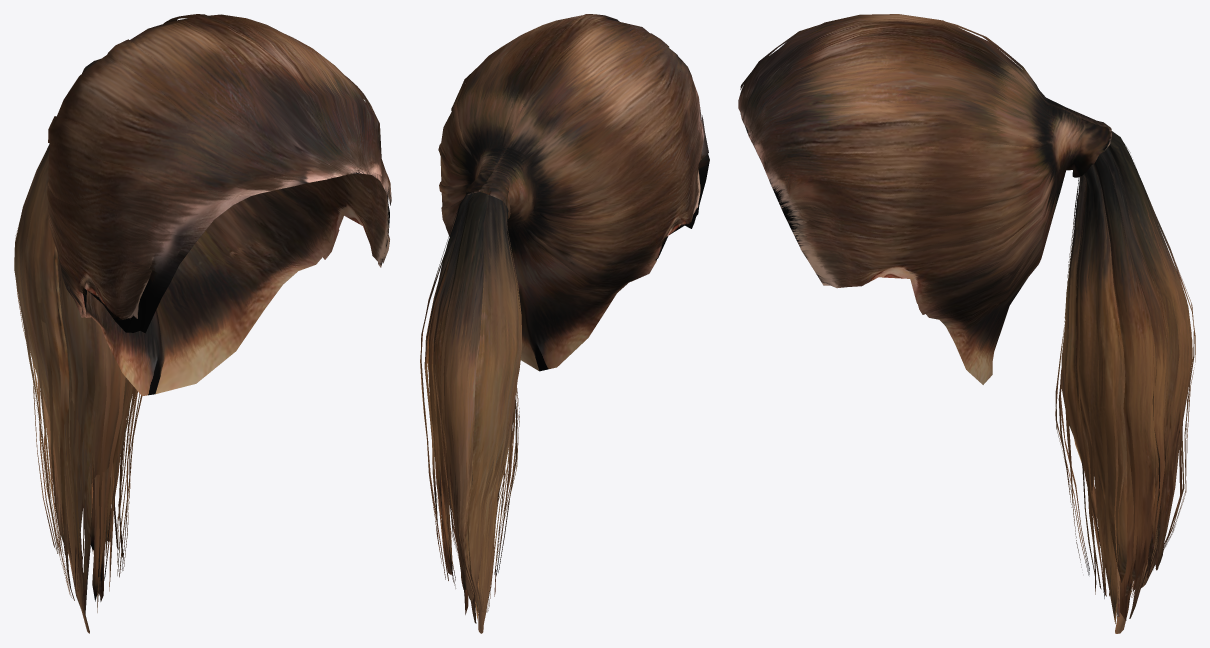
Rendered from ponytail.glb.
3 renders of one model, left to right at view 1: azimuth 30°, elevation 25°; view 2: azimuth 150°, elevation 25°; view 3: azimuth 270°, elevation 25°, orthographic. The views are drawn at different scales.
Visible parts, largest first — view 1: ponytail-ponytail01; view 2: ponytail-ponytail01; view 3: ponytail-ponytail01.
Boxes of the visible parts, x1,y1,x2,y2 form: ponytail-ponytail01: [14, 14, 391, 633]; ponytail-ponytail01: [420, 14, 709, 633]; ponytail-ponytail01: [738, 14, 1195, 633].
Bounding box in the file's own units: 0.1473 × 0.354 × 0.2391.
Materials: 1 (1 with a texture image).
